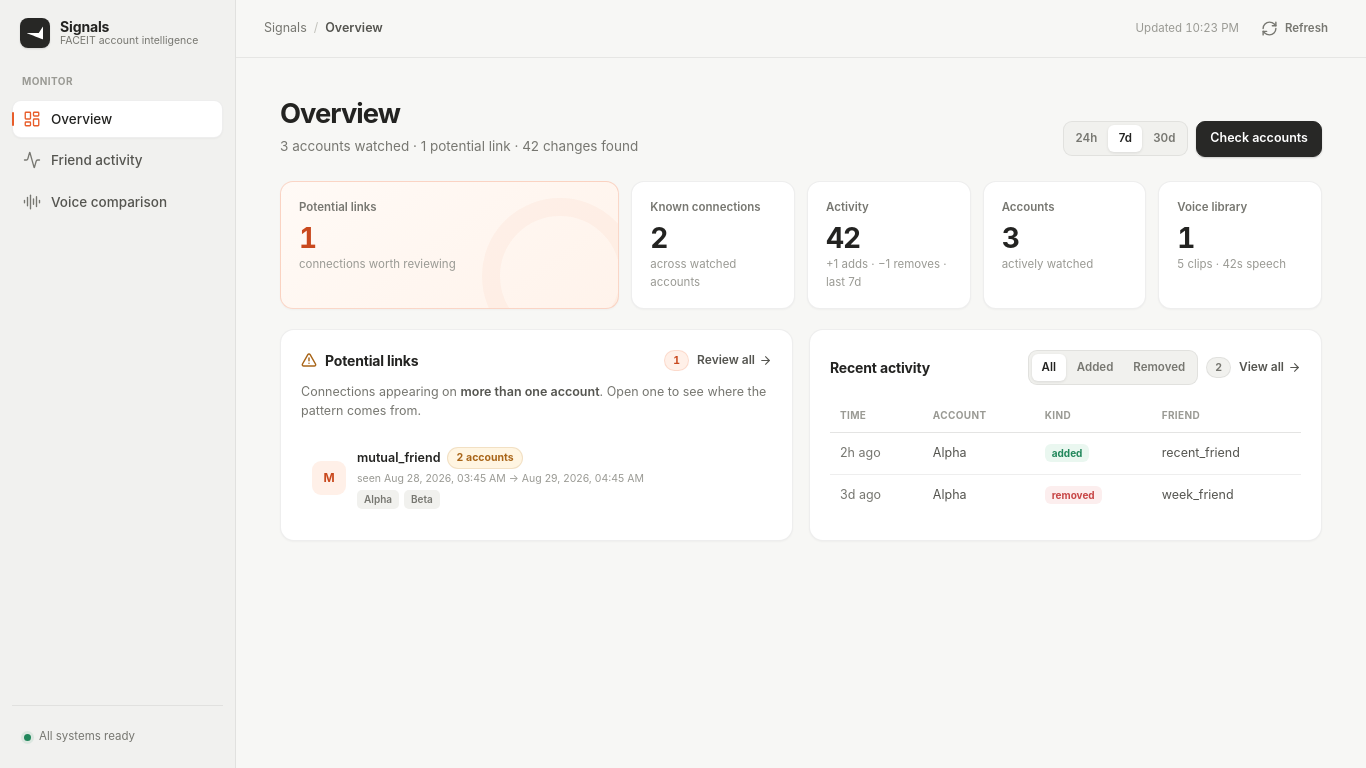
Test: overview dashboard › scopes the events card and KPI delta with the range selector
Check: the text "+1 adds · −1 removes · last 7d" is shown, box x1=826 y1=256 x2=952 y2=291
Check: the text "2" in the row of "Recent activity" is shown, box x1=1215 y1=361 x2=1222 y2=374
Step 1. Click the button "24h" → (1086, 139), box x1=1067 y1=125 x2=1106 y2=152
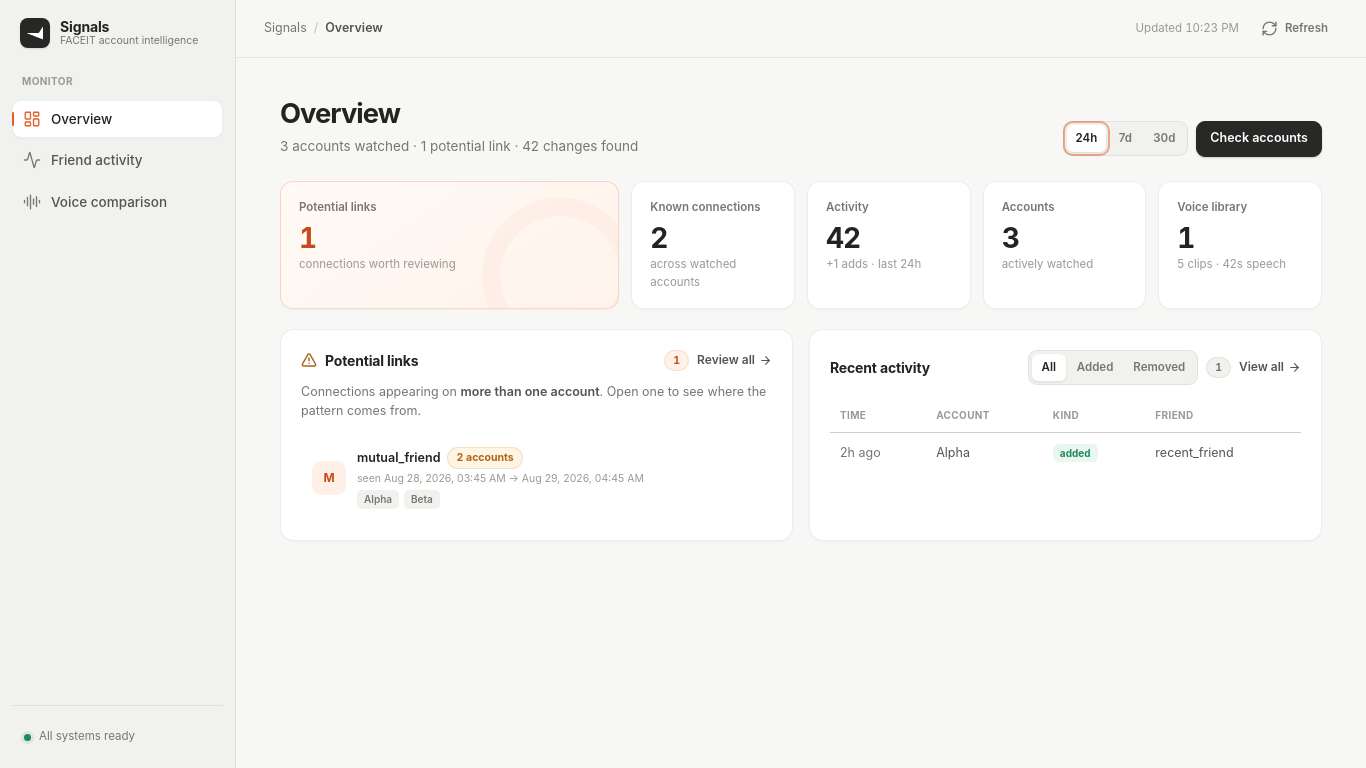
Check: the text "+1 adds · last 24h" is shown, box x1=826 y1=257 x2=921 y2=271
Check: the text "1" in the row of "Recent activity" is shown, box x1=1215 y1=361 x2=1222 y2=374
Check: the text "week_friend" is gone
Step 2. Click the button "30d" → (1164, 139), box x1=1144 y1=125 x2=1184 y2=152
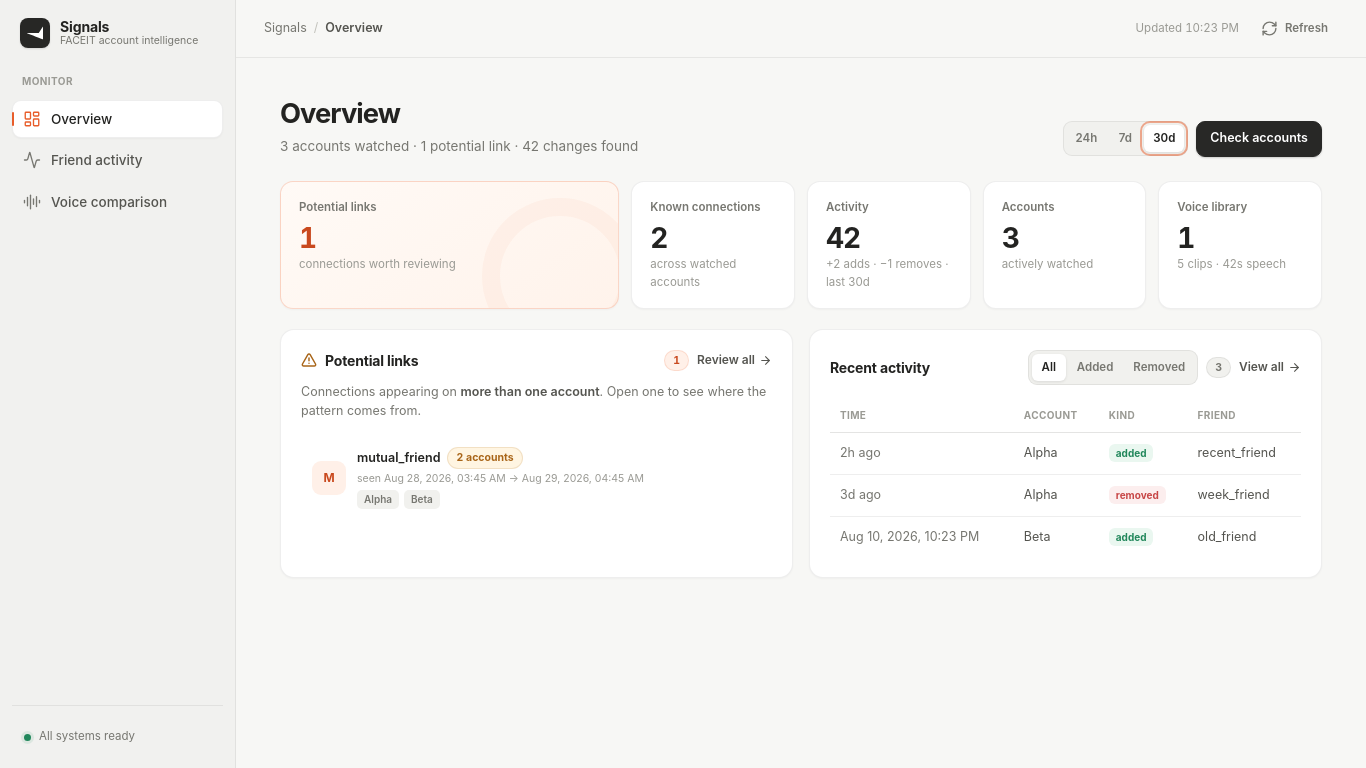
Check: the text "old_friend" is shown, box x1=1188 y1=516 x2=1301 y2=557
Check: the text "3" in the row of "Recent activity" is shown, box x1=1215 y1=361 x2=1222 y2=374
